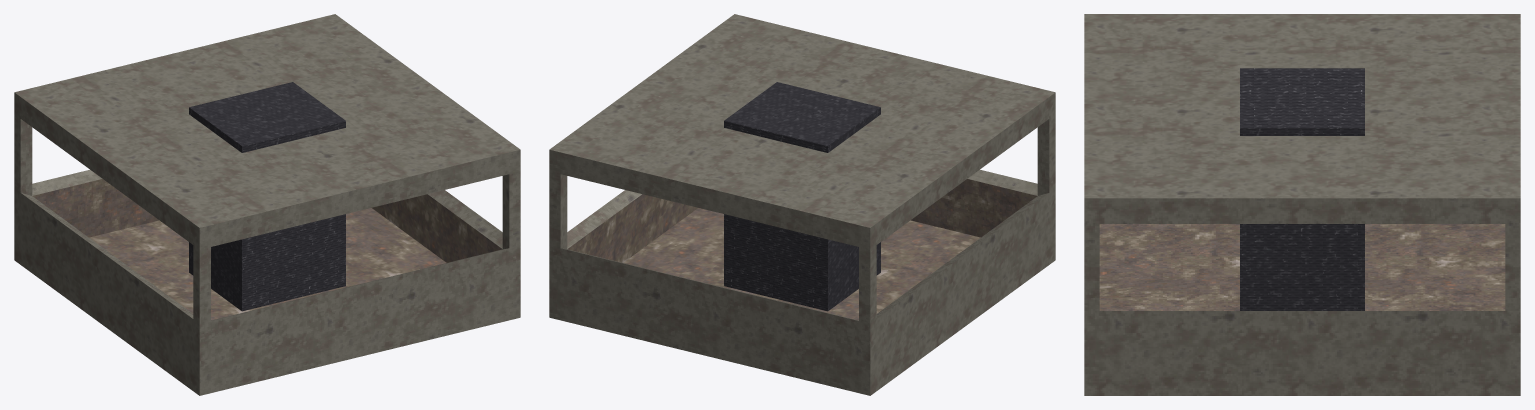
File: roomTest1.gltf
3 renders of one model, left to right at view 1: azimuth 30°, elevation 25°; view 2: azimuth 150°, elevation 25°; view 3: azimuth 270°, elevation 25°, orthographic. The views are drawn at different scales.
Parts seen in each view (by area): view 1: Cube, Cube.001, Cube.002; view 2: Cube, Cube.001, Cube.002; view 3: Cube, Cube.001, Cube.002.
Part boxes in pixels (x1=…): Cube: x1=14, y1=14, x2=520, y2=395; Cube.001: x1=32, y1=179, x2=502, y2=320; Cube.002: x1=189, y1=82, x2=345, y2=311; Cube: x1=549, y1=14, x2=1055, y2=395; Cube.001: x1=567, y1=179, x2=1037, y2=320; Cube.002: x1=724, y1=82, x2=880, y2=311; Cube: x1=1084, y1=14, x2=1520, y2=395; Cube.001: x1=1099, y1=224, x2=1505, y2=310; Cube.002: x1=1240, y1=68, x2=1364, y2=310.
Size of the model in its own units: 4 by 2.16 by 4.
Materials: 3 (3 with a texture image).
